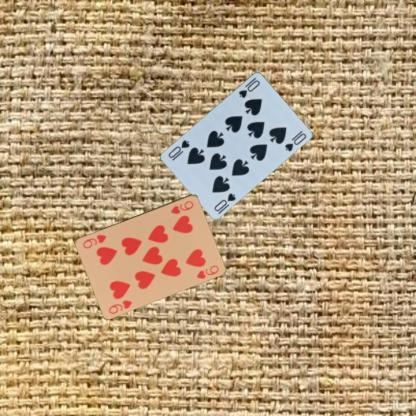10s: (212, 190, 236, 213), (236, 78, 261, 100)
9h: (106, 297, 134, 315), (168, 198, 195, 215)
